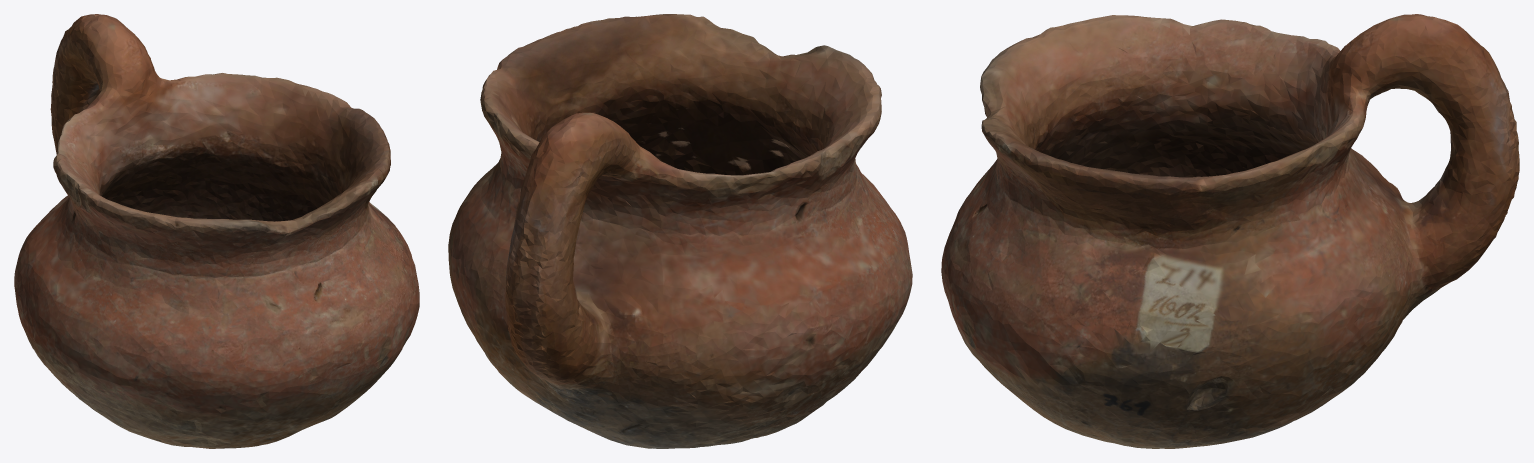
The model's file is KLA-Or-761.fbx.
The picture shows the model from 3 angles, left to right: view 1: azimuth 30°, elevation 25°; view 2: azimuth 150°, elevation 25°; view 3: azimuth 270°, elevation 25°; orthographic projection. The views are drawn at different scales.
Parts seen in each view (by area): view 1: KLA-Or-761; view 2: KLA-Or-761; view 3: KLA-Or-761.
Boxes of the visible parts, left/top/right/bottom form: KLA-Or-761: left=14, top=14, right=419, bottom=448; KLA-Or-761: left=448, top=14, right=912, bottom=448; KLA-Or-761: left=941, top=14, right=1519, bottom=448.
Bounding box in the file's own units: 119 × 111 × 144.
